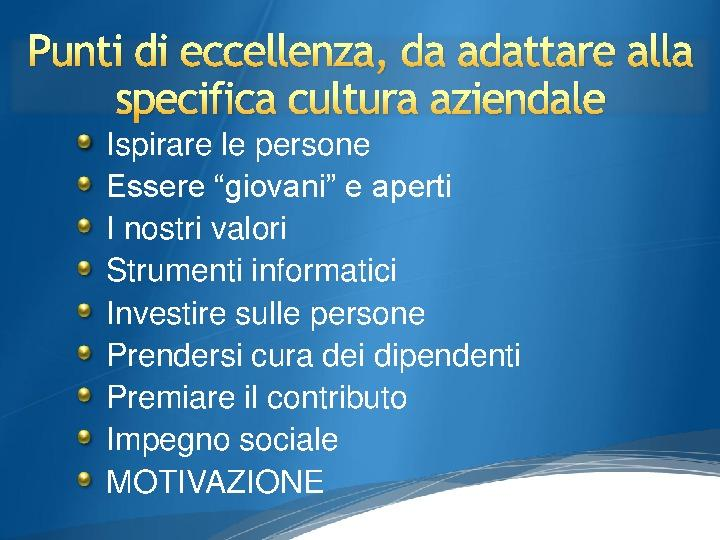paragraph: (61, 114, 528, 540)
title: (12, 20, 701, 128)
